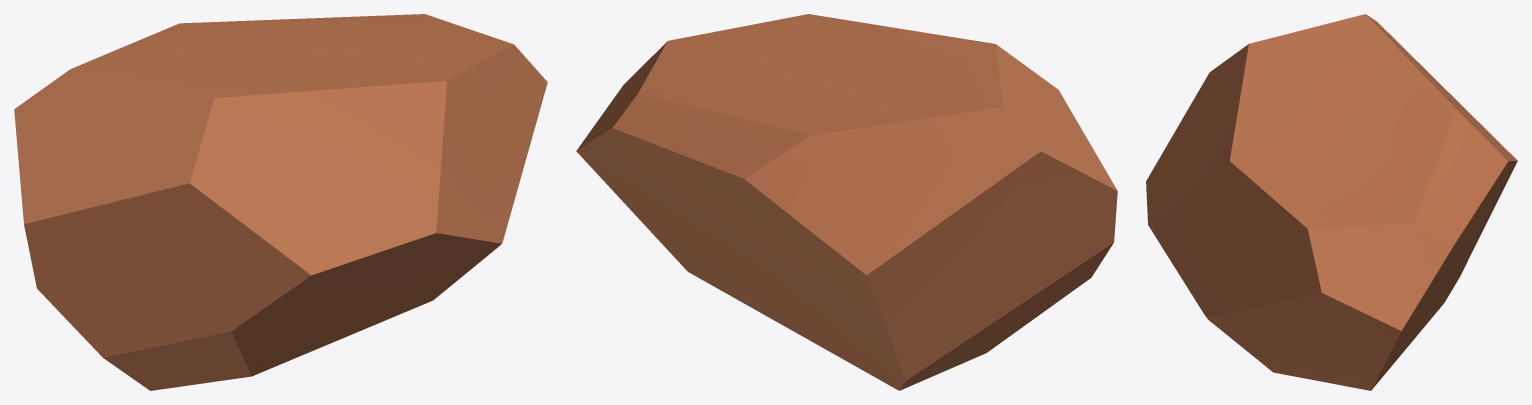
The model's file is rocks4.fbx.
3 views of the same model, side by side, from view 1: azimuth 30°, elevation 25°; view 2: azimuth 150°, elevation 25°; view 3: azimuth 270°, elevation 25° (orthographic). The views are drawn at different scales.
Visible parts, largest first — view 1: stone-oval; view 2: stone-oval; view 3: stone-oval.
Boxes of the visible parts, bbox=[...] form: stone-oval: bbox=[14, 14, 547, 390]; stone-oval: bbox=[576, 14, 1117, 390]; stone-oval: bbox=[1146, 14, 1517, 390].
Bounding box in the file's own units: 104 × 56.77 × 71.21.
1 material, 1 textured.
